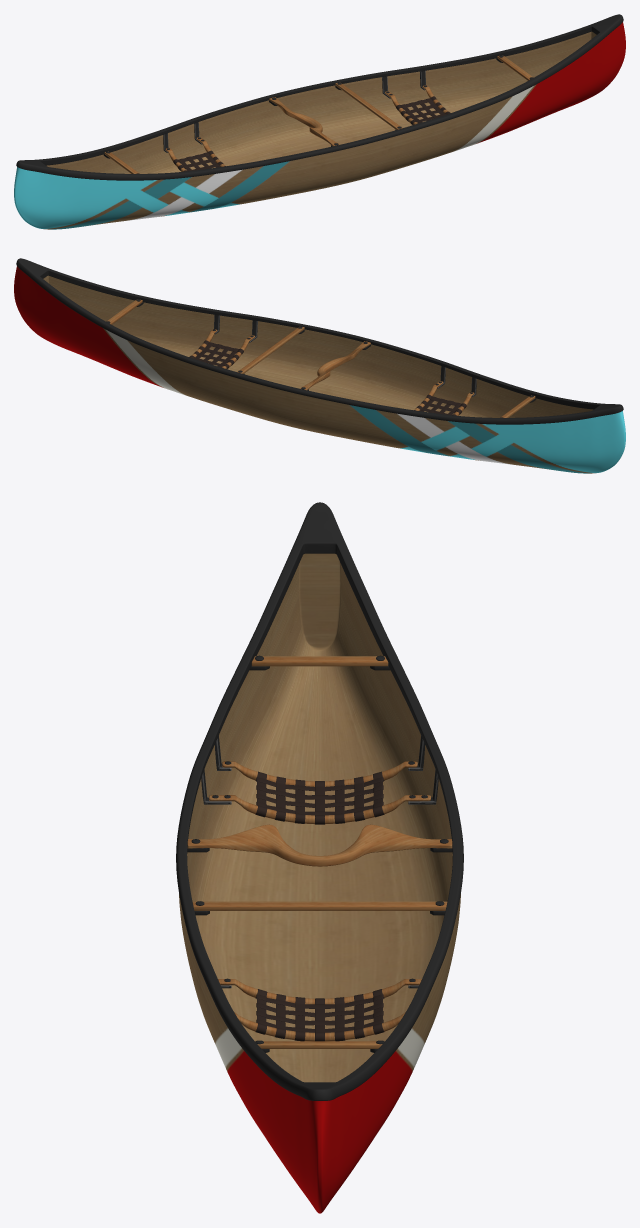
Rendered from Canoe_Body_low.glb.
The picture shows the model from 3 angles, top to bottom: view 1: azimuth 30°, elevation 25°; view 2: azimuth 150°, elevation 25°; view 3: azimuth 270°, elevation 25°; orthographic projection. The views are drawn at different scales.
Visible parts, largest first — view 1: Canoe_Body_low; view 2: Canoe_Body_low; view 3: Canoe_Body_low.
Boxes of the visible parts, x1=… form: Canoe_Body_low: x1=14, y1=14, x2=625, y2=229; Canoe_Body_low: x1=14, y1=258, x2=625, y2=473; Canoe_Body_low: x1=176, y1=502, x2=463, y2=1213.
Bounding box in the file's own units: 4.6 × 0.6035 × 0.9383.
Materials: 1 (1 with a texture image).
